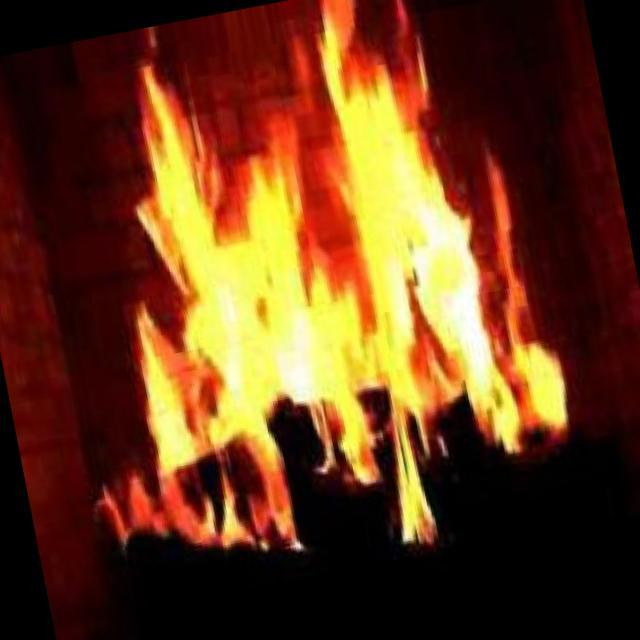Fire: (109, 22, 560, 503)
